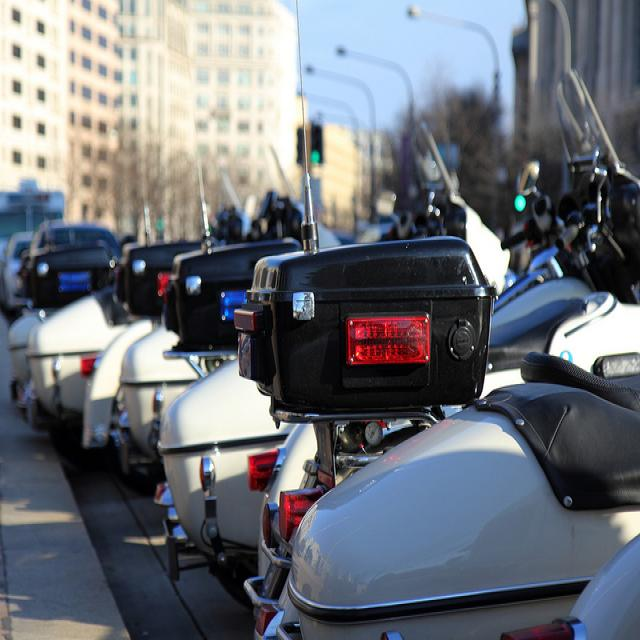motor: (160, 61, 581, 639), (232, 58, 640, 631), (72, 235, 199, 472), (25, 286, 140, 459), (498, 532, 640, 640), (500, 178, 599, 293), (135, 335, 206, 455)
